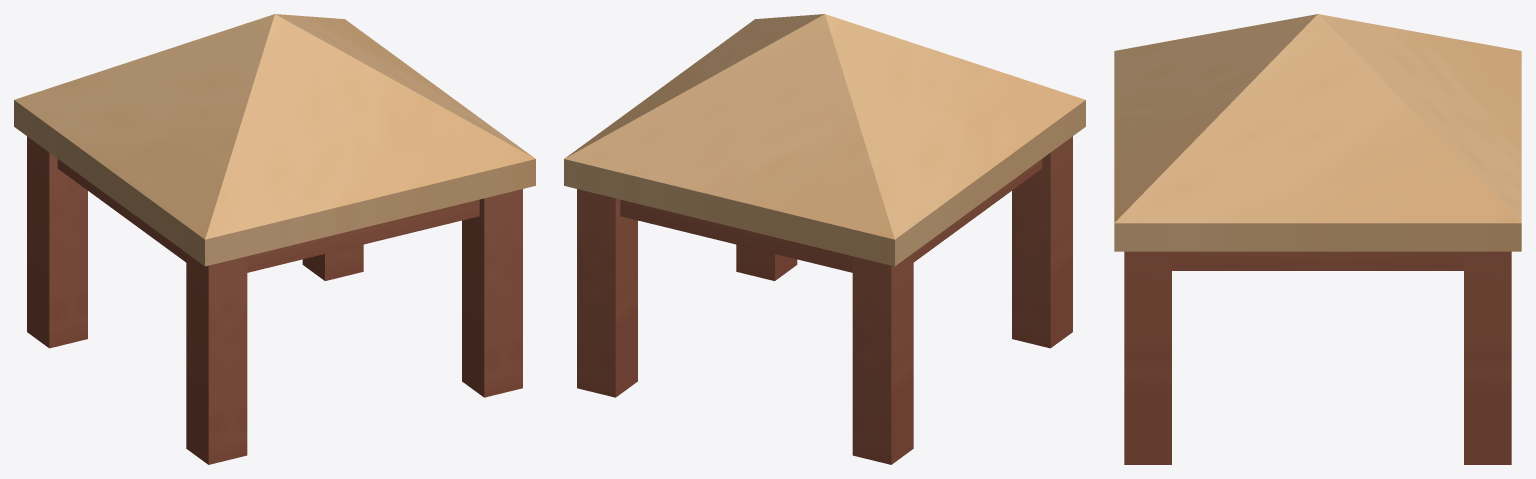
File: tent.glb
3 renders of one model, left to right at view 1: azimuth 30°, elevation 25°; view 2: azimuth 150°, elevation 25°; view 3: azimuth 270°, elevation 25°, orthographic. The views are drawn at different scales.
Parts seen in each view (by area): view 1: tent; view 2: tent; view 3: tent.
Part boxes in pixels (bbox=[...]): tent: bbox=[14, 14, 535, 464]; tent: bbox=[564, 14, 1085, 464]; tent: bbox=[1114, 14, 1521, 464].
Bounding box in the file's own units: 0.516 × 0.516 × 0.516.
Materials: 1 (1 with a texture image).
